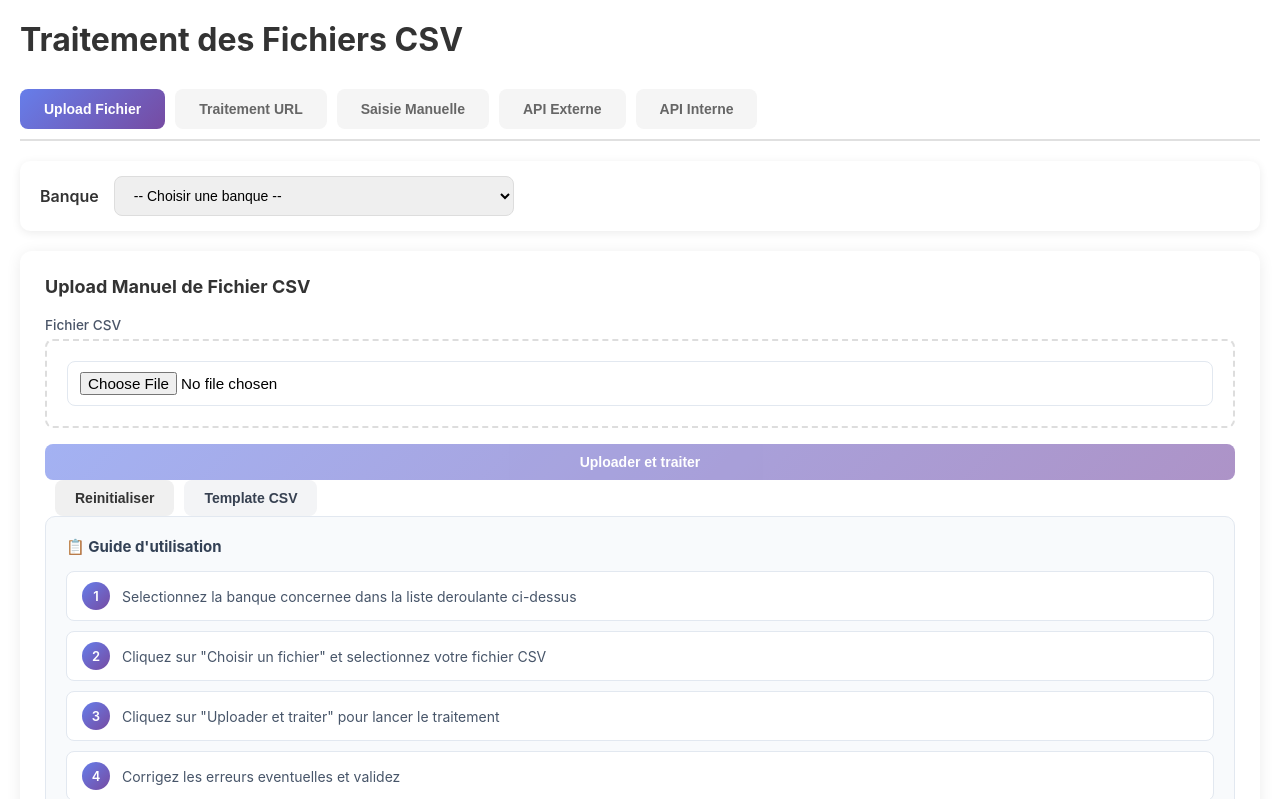
Scenario: Processing › switches to URL processing tab
This screenshot has width=1280, height=799.
Check: the heading "Traitement des Fichiers CSV" is shown, box 20,20 -> 463,59
Click the button "Traitement URL": (251, 109) 175,89 -> 327,129
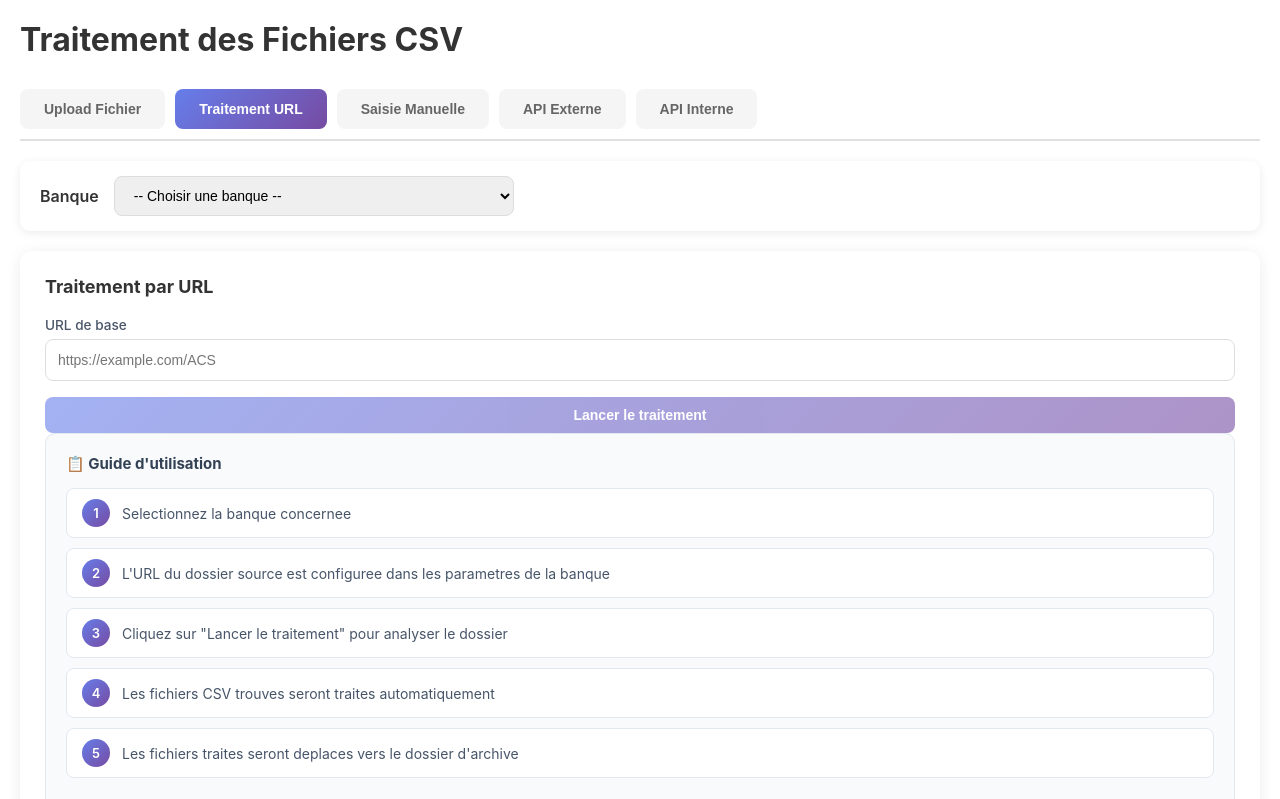
Check: the heading "Traitement par URL" is shown, box 45,276 -> 214,297
